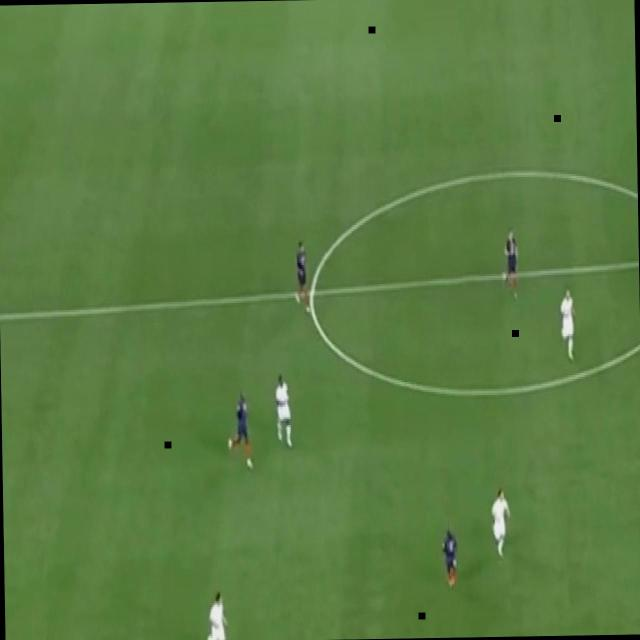player-white: (226, 384, 257, 475), (496, 225, 522, 307), (557, 282, 579, 366), (272, 372, 294, 451), (490, 484, 512, 560), (292, 235, 312, 315), (203, 588, 231, 640), (440, 526, 460, 596)
